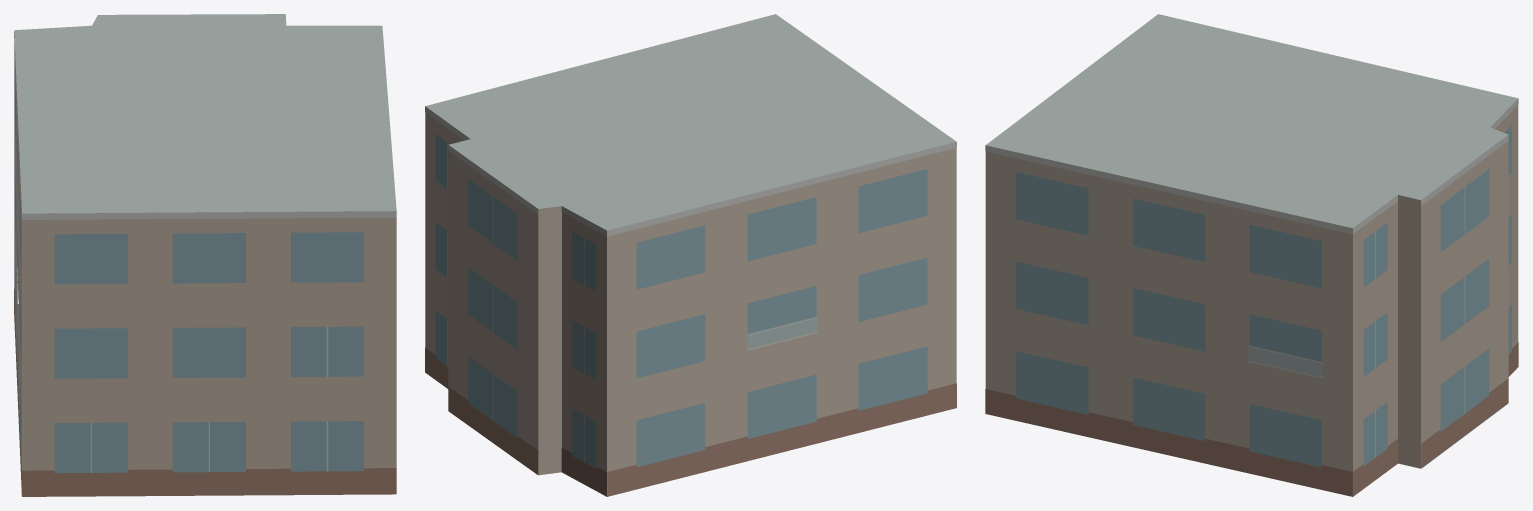
The model's file is survey-upis-32906227.glb.
3 renders of one model, left to right at view 1: azimuth 30°, elevation 25°; view 2: azimuth 150°, elevation 25°; view 3: azimuth 270°, elevation 25°, orthographic. The views are drawn at different scales.
Parts seen in each view (by area): view 1: survey-upis-32906227.tmp; view 2: survey-upis-32906227.tmp; view 3: survey-upis-32906227.tmp.
Boxes of the visible parts, x1=… form: survey-upis-32906227.tmp: x1=14, y1=14, x2=396, y2=496; survey-upis-32906227.tmp: x1=425, y1=14, x2=956, y2=496; survey-upis-32906227.tmp: x1=985, y1=14, x2=1518, y2=496.
Size of the model in its own units: 18.48 by 10.8 by 19.43.
